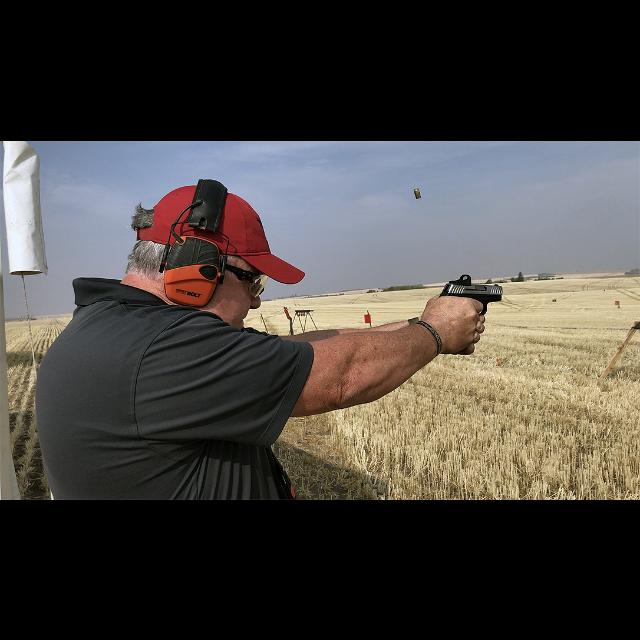handgun: (438, 270, 504, 316)
